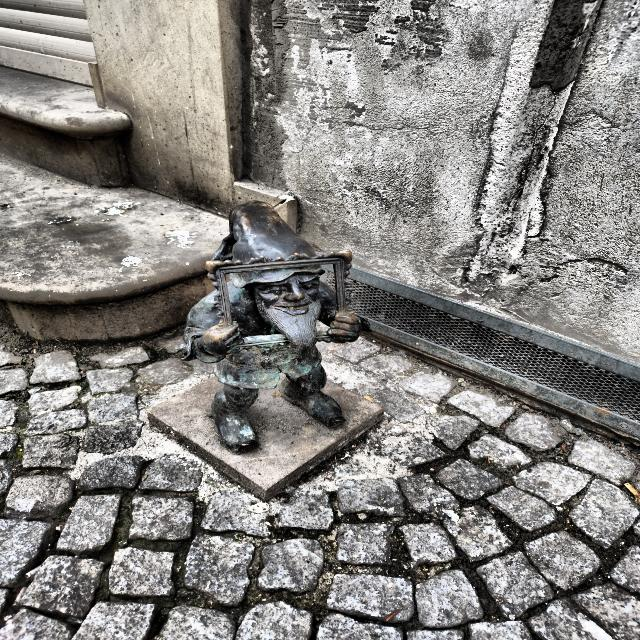Galeriusz: (185, 201, 362, 451)
